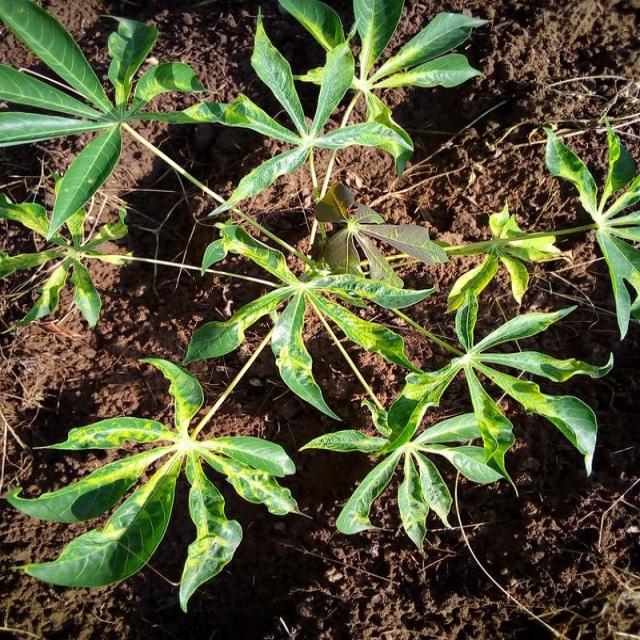cassava leaf: (2, 1, 634, 612), (5, 350, 307, 612)
